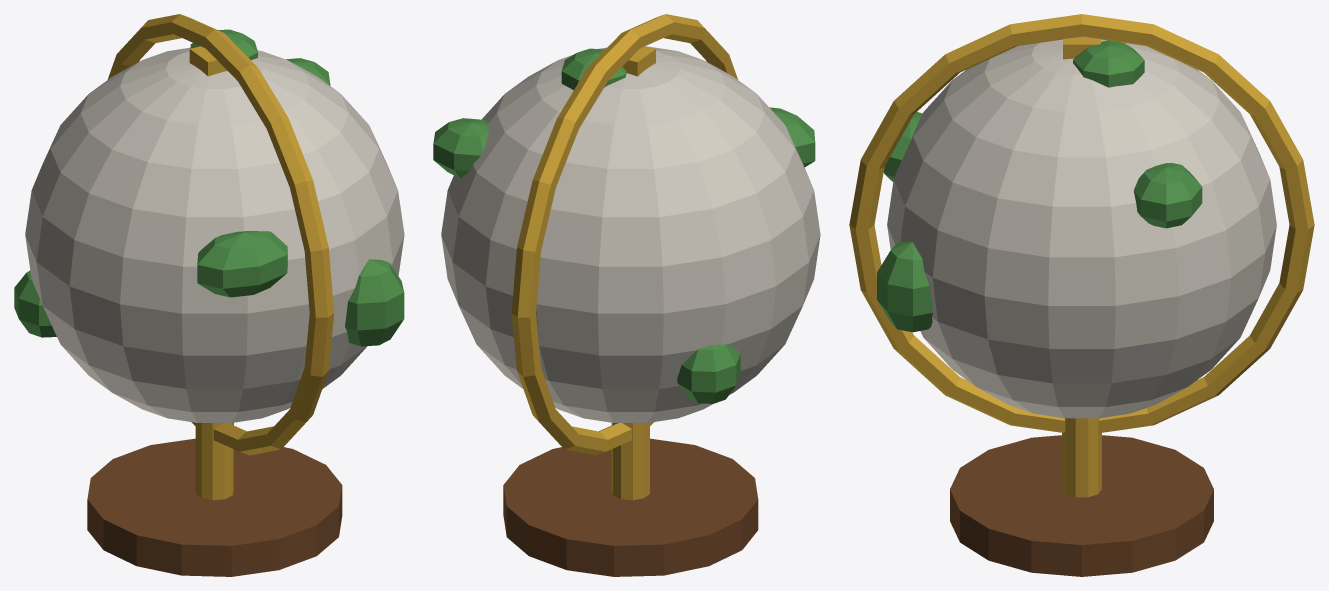
Rendered from globe.glb.
3 views of the same model, side by side, from view 1: azimuth 30°, elevation 25°; view 2: azimuth 150°, elevation 25°; view 3: azimuth 270°, elevation 25° (orthographic). The views are drawn at different scales.
Parts seen in each view (by area): view 1: globe; view 2: globe; view 3: globe.
Boxes of the visible parts, box(x1,y1,x2,y2) form: globe: box(14, 14, 404, 576); globe: box(433, 14, 820, 576); globe: box(849, 14, 1314, 576).
Size of the model in its own units: 0.3053 by 0.445 by 0.37.
